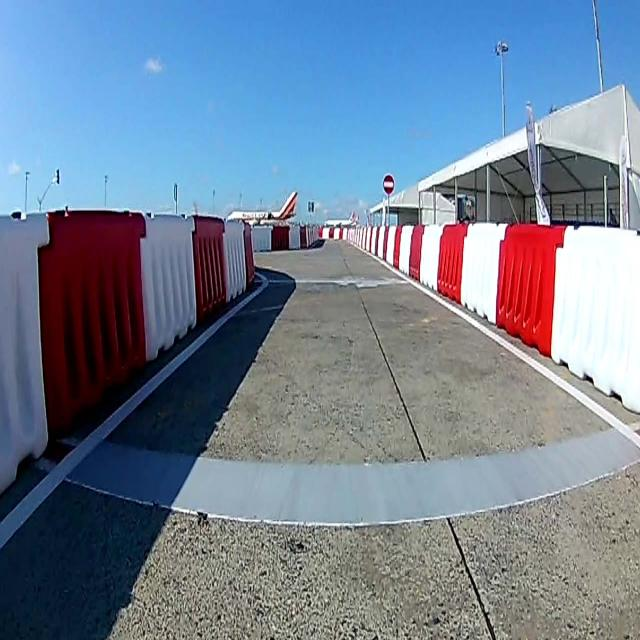girisyok: (382, 174, 395, 196)
